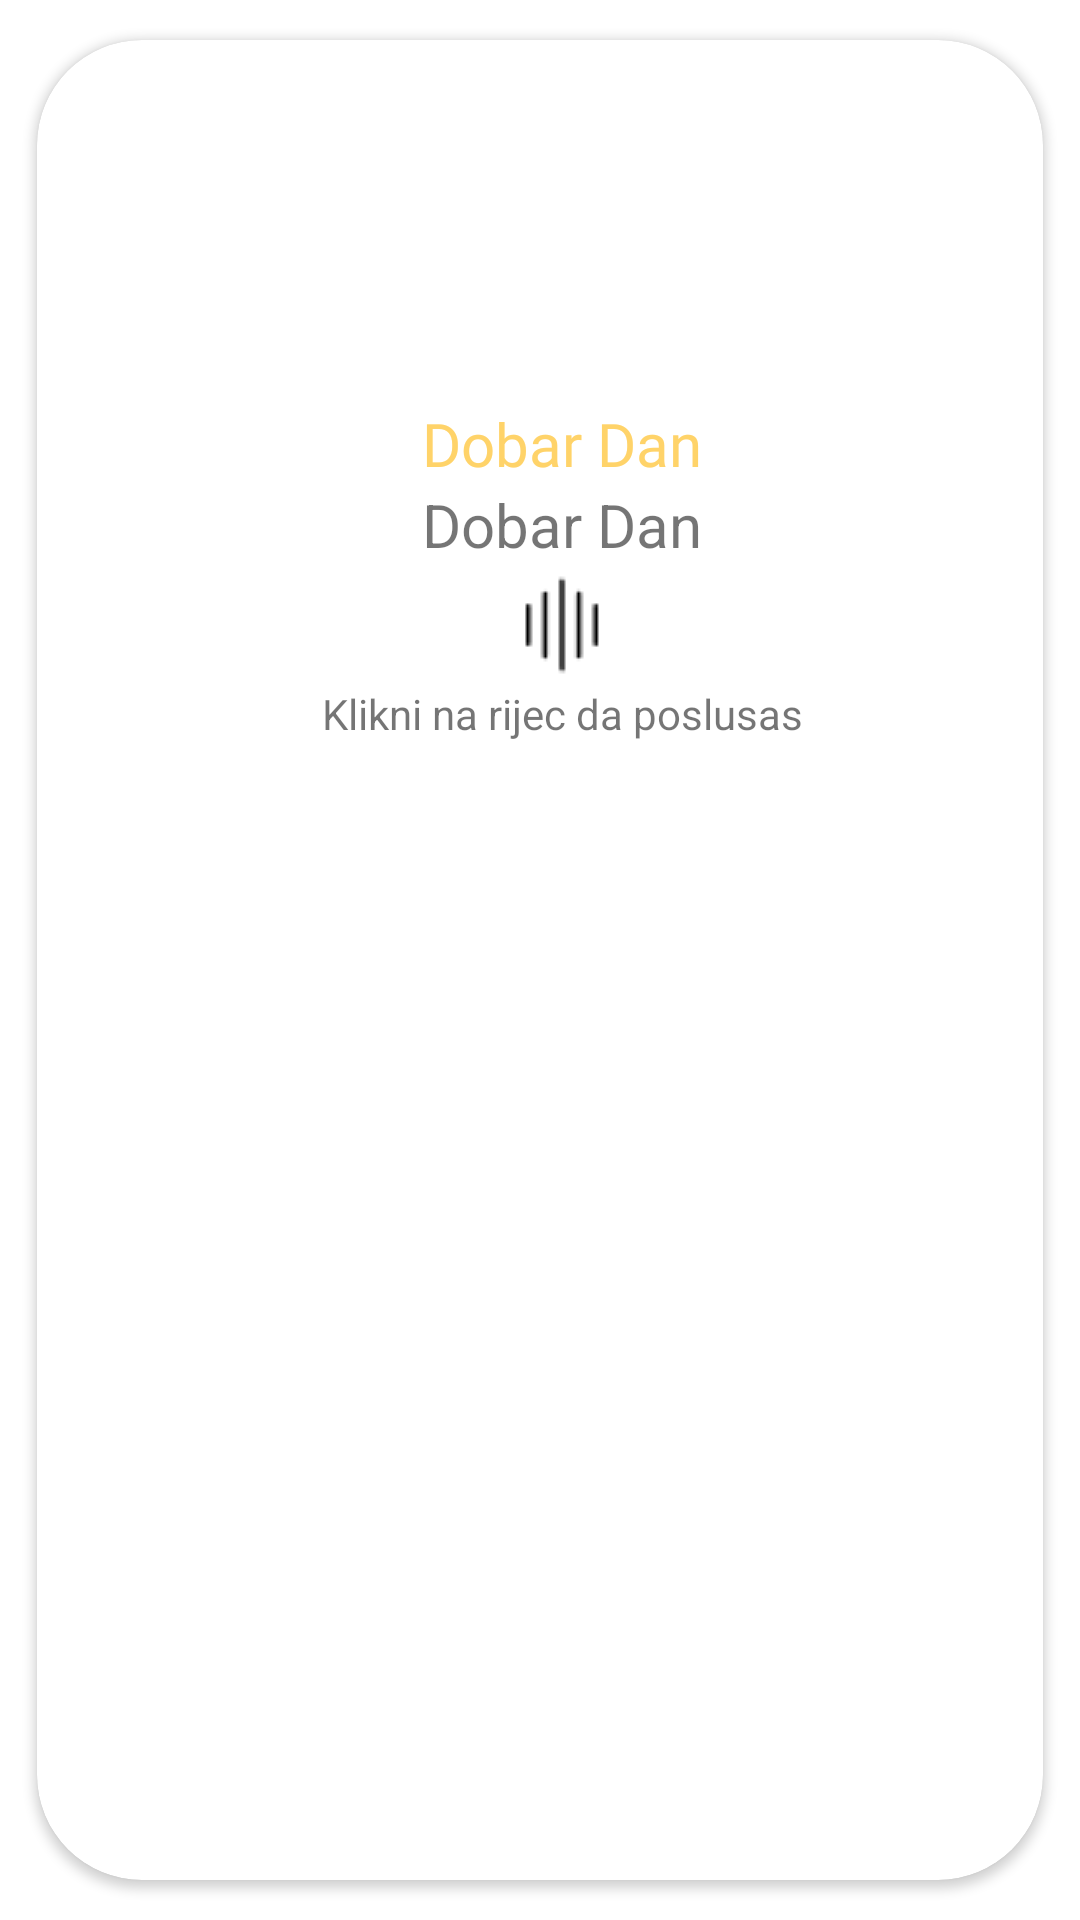

Icons on this 1080px x 1920px Android screen, each with the point to tap as point (x, y):
play sound animation: point (562, 625)
